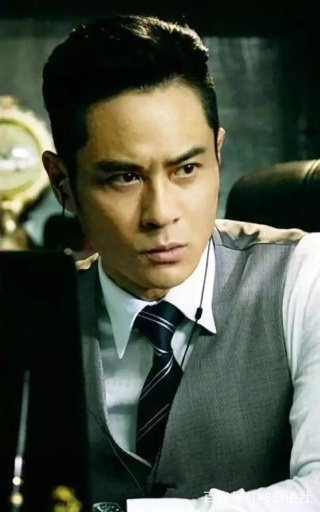male: (28, 17, 255, 302)
